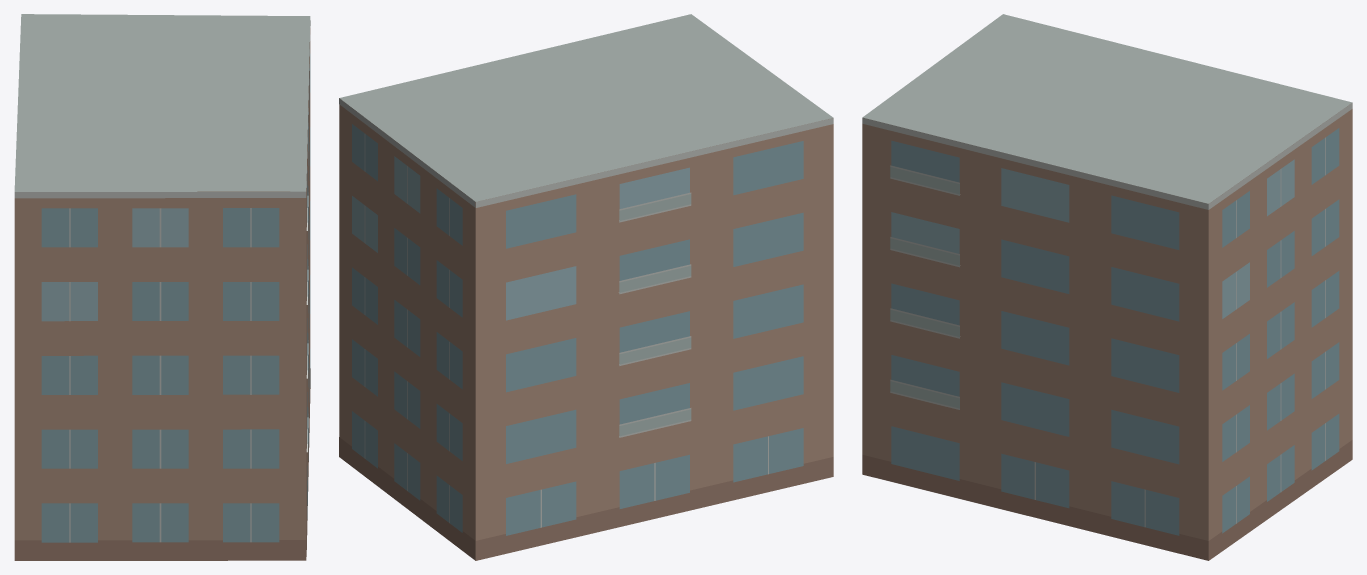
Rendered from survey-upis-32873498.glb.
3 renders of one model, left to right at view 1: azimuth 30°, elevation 25°; view 2: azimuth 150°, elevation 25°; view 3: azimuth 270°, elevation 25°, orthographic. The views are drawn at different scales.
Visible parts, largest first — view 1: survey-upis-32873498.tmp; view 2: survey-upis-32873498.tmp; view 3: survey-upis-32873498.tmp.
Boxes of the visible parts, x1,y1,x2,y2 form: survey-upis-32873498.tmp: (14,14,310,560); survey-upis-32873498.tmp: (339,14,833,560); survey-upis-32873498.tmp: (862,14,1352,560).
Bounding box in the file's own units: 16.2 × 14.2 × 17.68.
